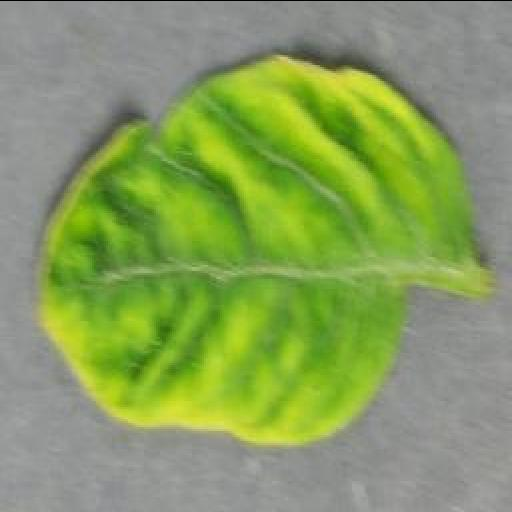disease_tomato: (32, 50, 478, 446)
